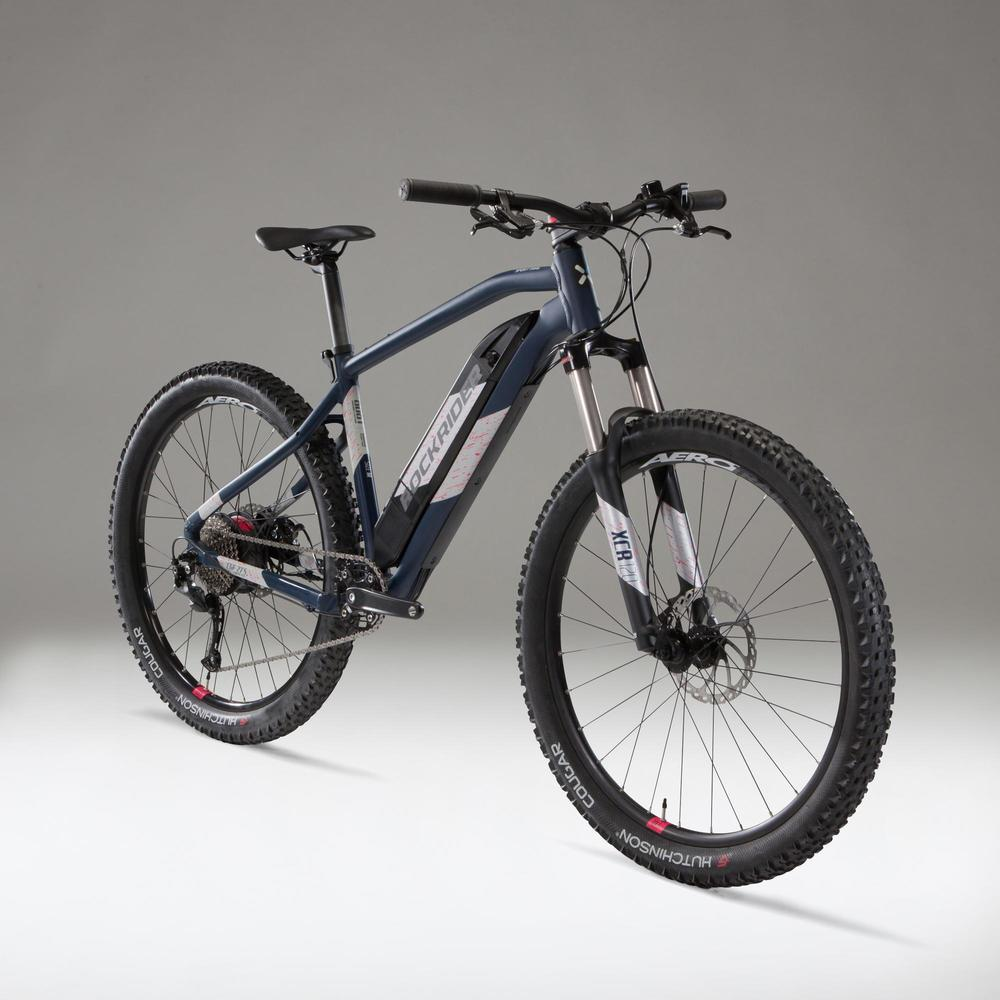MountainBike: (103, 160, 897, 868)
